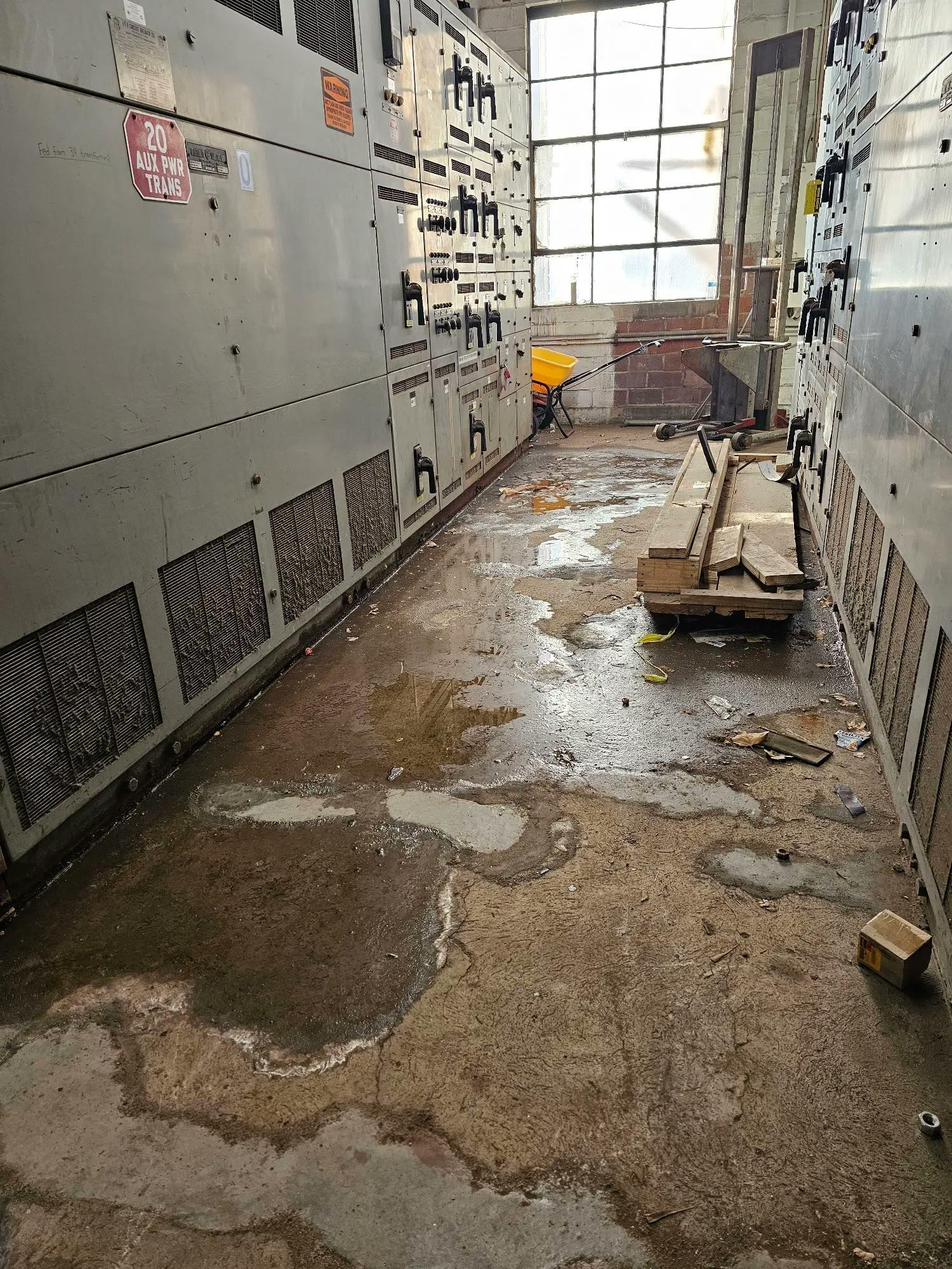water accumulation: (0, 441, 868, 1269)
